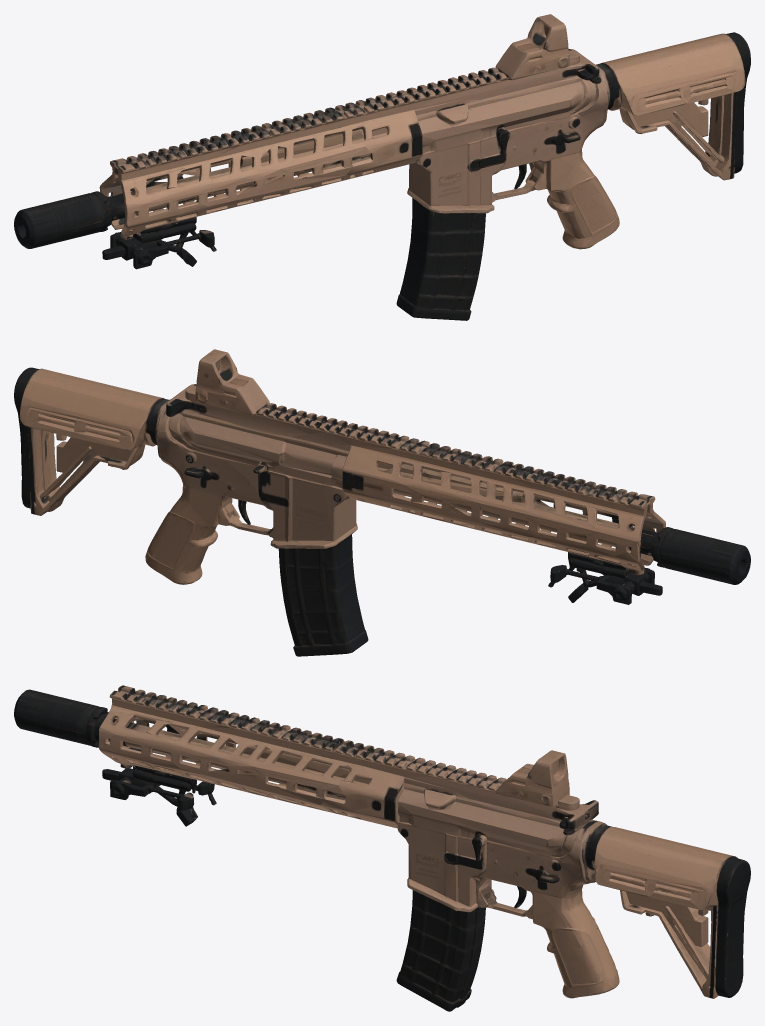
The picture shows the model from 3 angles, top to bottom: view 1: azimuth 30°, elevation 25°; view 2: azimuth 150°, elevation 25°; view 3: azimuth 330°, elevation 25°; orthographic projection.
Bounding box in the file's own units: 1.9 × 0.687 × 0.174.
1 material, 1 textured.
